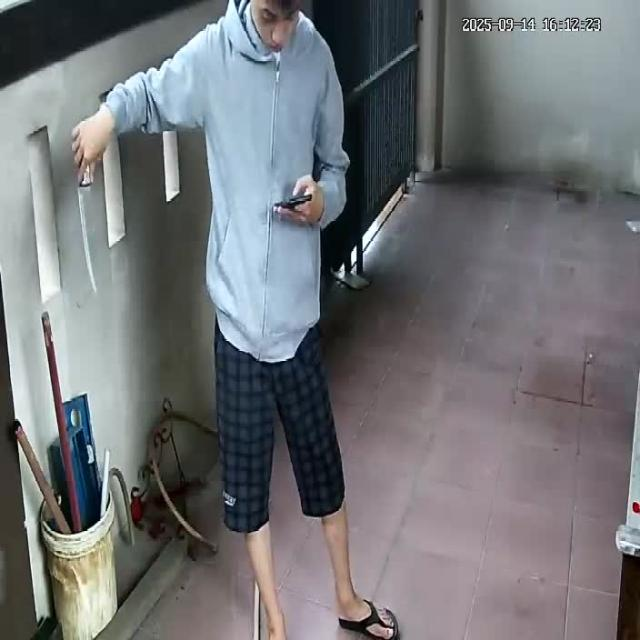senjata_tajam: (77, 167, 101, 295)
